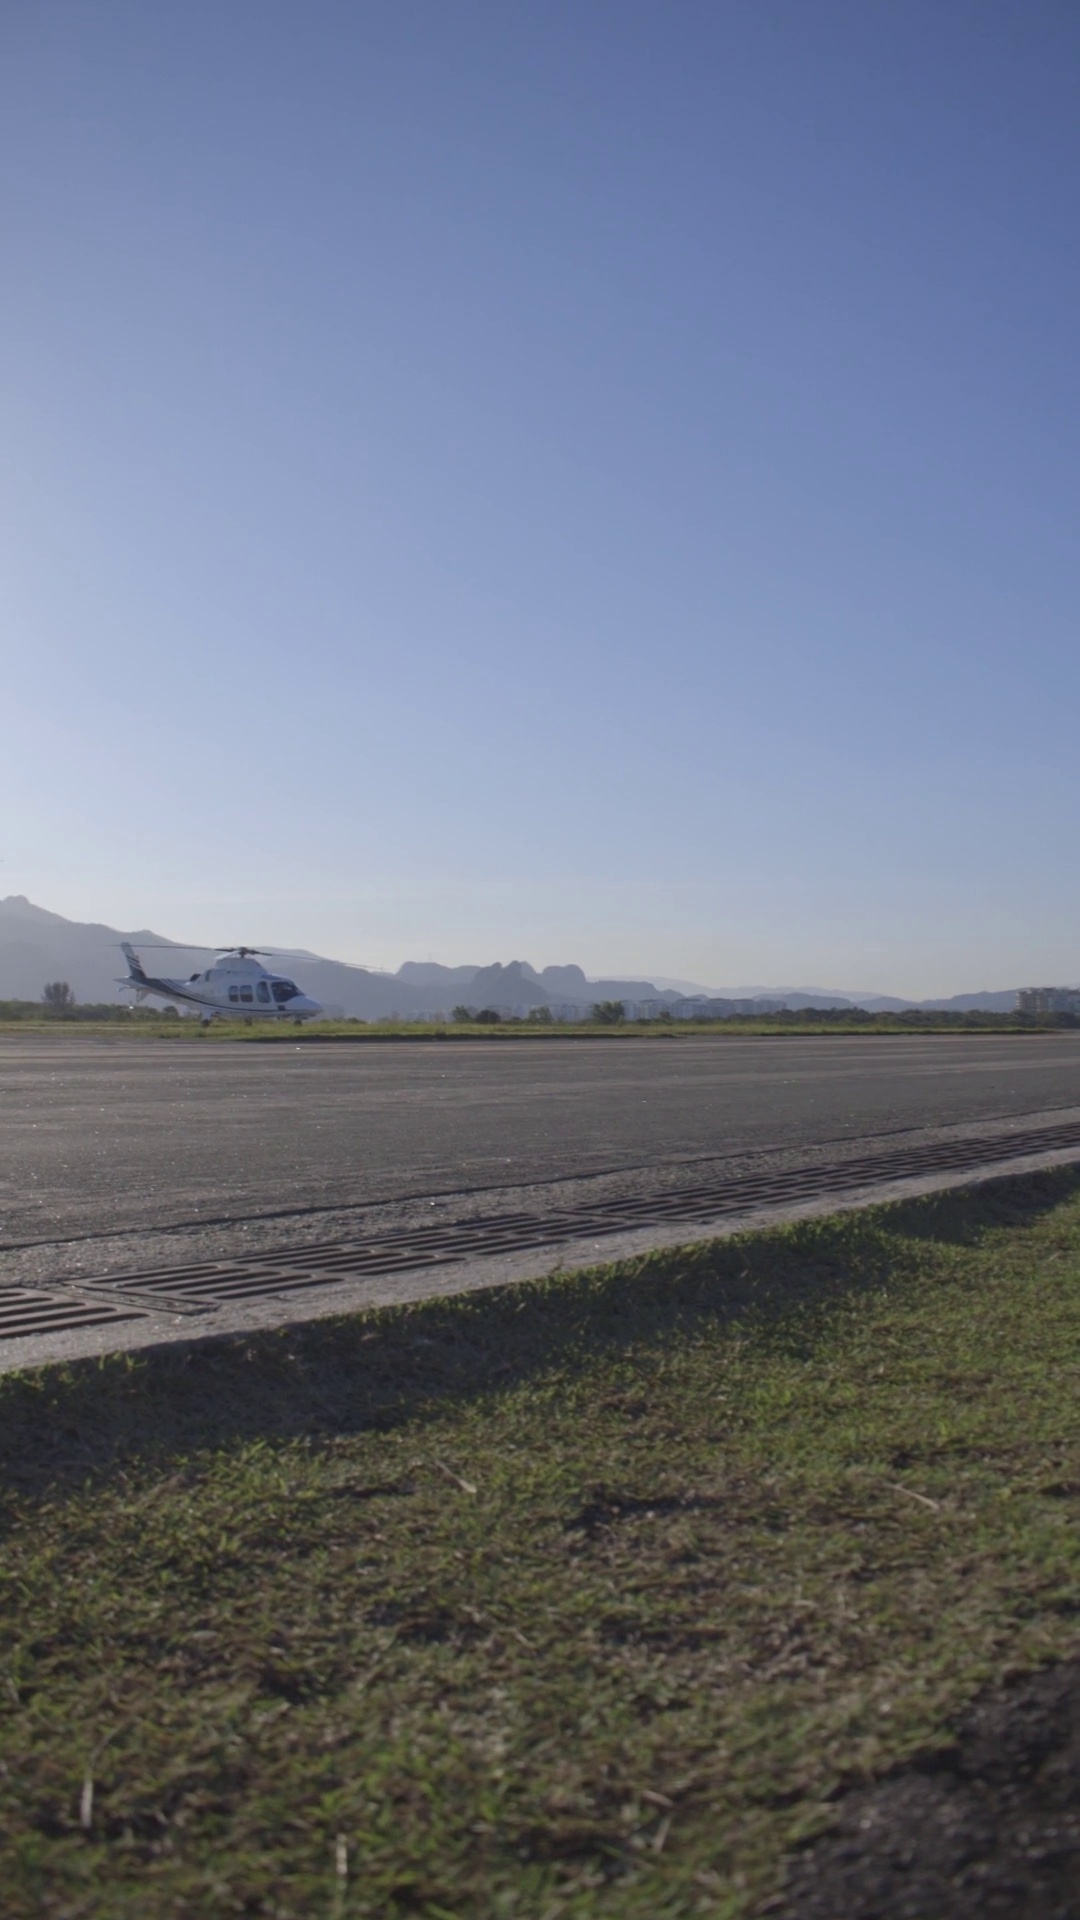heli: (116, 942, 328, 1038)
